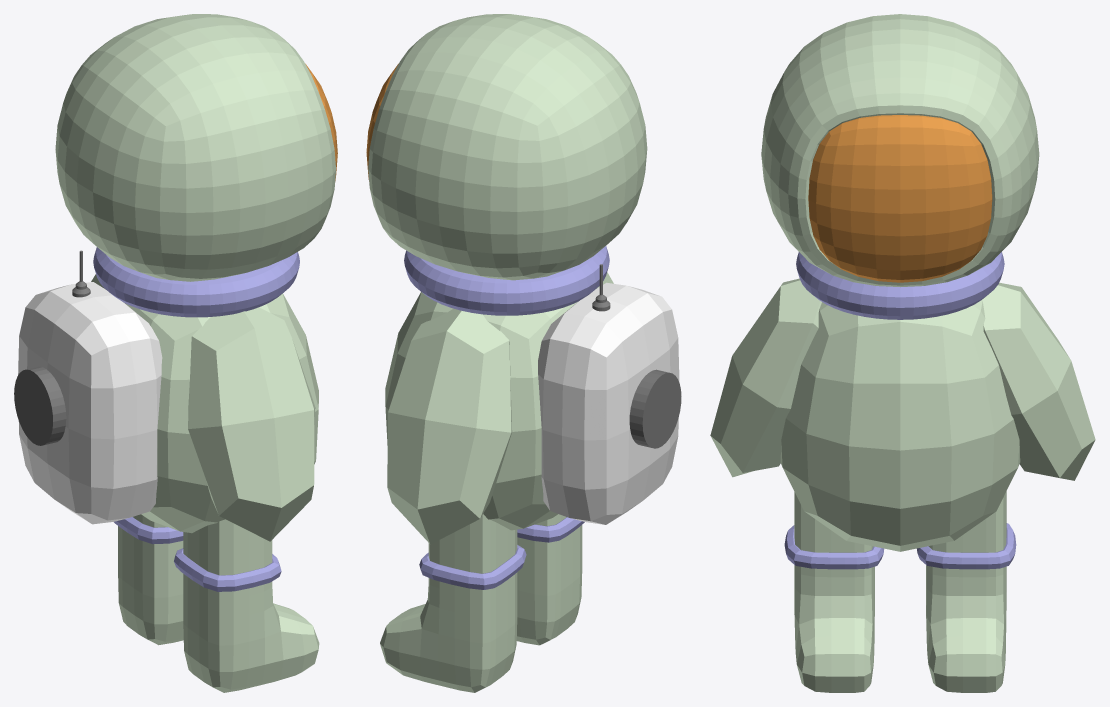
Rendered from astronaut.fbx.
3 views of the same model, side by side, from view 1: azimuth 30°, elevation 25°; view 2: azimuth 150°, elevation 25°; view 3: azimuth 270°, elevation 25° (orthographic).
Visible parts, largest first — view 1: Helmet-col, Cube.009, Cube.007, leg2-col, Cube-col, Torus, leg1-col, Cylinder.001, Cube.006, Cube.004, Visor-col; view 2: Helmet-col, Cube.009, Cube.008, leg1-col, Cube-col, Torus, leg2-col, Cylinder.001, Cube.004, Cube.006, Visor-col; view 3: Cube-col, Helmet-col, Visor-col, Cube.008, Cube.007, leg1-col, leg2-col, Torus, Cube.004, Cube.006.
Boxes of the visible parts, bbox=[...] form: Helmet-col: bbox=[55, 14, 335, 281]; Cube.009: bbox=[18, 282, 162, 524]; Cube.007: bbox=[188, 307, 315, 541]; leg2-col: bbox=[183, 519, 319, 692]; Cube-col: bbox=[104, 288, 318, 533]; Torus: bbox=[93, 247, 299, 317]; leg1-col: bbox=[118, 514, 183, 645]; Cylinder.001: bbox=[14, 366, 66, 445]; Cube.006: bbox=[174, 548, 281, 591]; Cube.004: bbox=[114, 517, 183, 544]; Visor-col: bbox=[305, 63, 337, 180]; Helmet-col: bbox=[368, 14, 647, 280]; Cube.009: bbox=[538, 282, 679, 524]; Cube.008: bbox=[387, 308, 512, 544]; leg1-col: bbox=[380, 514, 517, 692]; Cube-col: bbox=[385, 287, 598, 530]; Torus: bbox=[404, 246, 609, 315]; leg2-col: bbox=[516, 514, 582, 645]; Cylinder.001: bbox=[629, 369, 681, 448]; Cube.004: bbox=[419, 545, 526, 589]; Cube.006: bbox=[517, 517, 584, 542]; Visor-col: bbox=[366, 63, 398, 181]; Cube-col: bbox=[780, 300, 1020, 551]; Helmet-col: bbox=[761, 14, 1039, 287]; Visor-col: bbox=[808, 115, 992, 282]; Cube.008: bbox=[982, 282, 1095, 480]; Cube.007: bbox=[710, 278, 821, 477]; leg1-col: bbox=[926, 491, 1006, 692]; leg2-col: bbox=[794, 492, 874, 692]; Torus: bbox=[796, 252, 1004, 319]; Cube.004: bbox=[917, 523, 1016, 569]; Cube.006: bbox=[784, 525, 884, 569].
Bounding box in the file's own units: 158 × 342 × 187.
